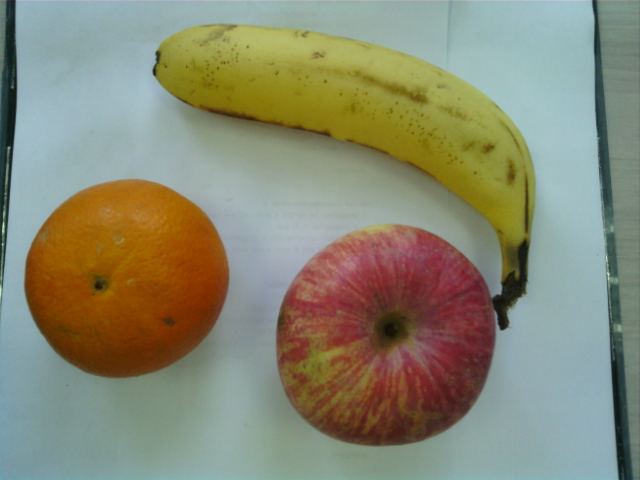normal_apple: (271, 221, 495, 449)
normal_banana: (151, 16, 537, 238)
normal_orange: (27, 177, 229, 384)
